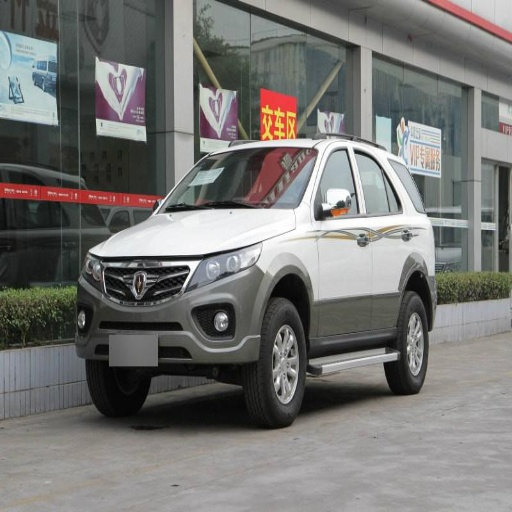front_bumper: (77, 252, 272, 366)
front_glass: (158, 148, 316, 213)
front_left_door: (312, 143, 370, 342)
